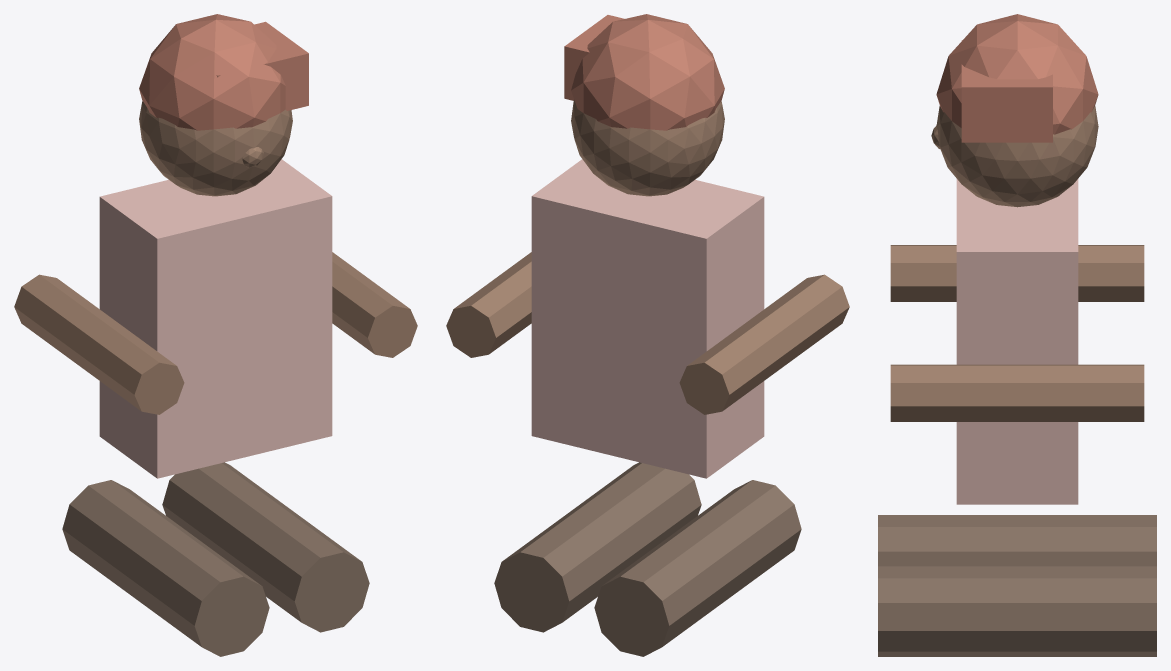
The model's file is sim_elder_slender.glb.
The picture shows the model from 3 angles, left to right: view 1: azimuth 30°, elevation 25°; view 2: azimuth 150°, elevation 25°; view 3: azimuth 270°, elevation 25°; orthographic projection. The views are drawn at different scales.
Parts seen in each view (by area): view 1: p002, p000, p001, p006, p003, p005, p004, p007; view 2: p002, p000, p001, p006, p003, p005, p004, p007; view 3: p002, p001, p004, p000, p006, p005, p003, p007.
Boxes of the visible parts, left/top/right/bottom form: p002: left=99, top=159, right=332, bottom=478; p000: left=62, top=480, right=269, bottom=656; p001: left=162, top=462, right=369, bottom=632; p006: left=139, top=14, right=285, bottom=130; p003: left=14, top=274, right=184, bottom=414; p005: left=139, top=101, right=292, bottom=196; p004: left=332, top=252, right=417, bottom=357; p007: left=216, top=21, right=308, bottom=110; p002: left=531, top=159, right=764, bottom=478; p000: left=594, top=480, right=801, bottom=656; p001: left=494, top=462, right=701, bottom=632; p006: left=571, top=14, right=724, bottom=130; p003: left=679, top=274, right=849, bottom=414; p005: left=571, top=100, right=724, bottom=196; p004: left=446, top=252, right=531, bottom=357; p007: left=564, top=15, right=699, bottom=100; p002: left=956, top=179, right=1078, bottom=504; p001: left=878, top=566, right=1156, bottom=656; p004: left=890, top=364, right=1144, bottom=421; p000: left=878, top=515, right=1156, bottom=566; p006: left=936, top=14, right=1098, bottom=134; p005: left=936, top=106, right=1098, bottom=207; p003: left=890, top=245, right=1144, bottom=301; p007: left=961, top=40, right=1052, bottom=142.
Bounding box in the file's own units: 0.646 × 1.25 × 0.5225.
